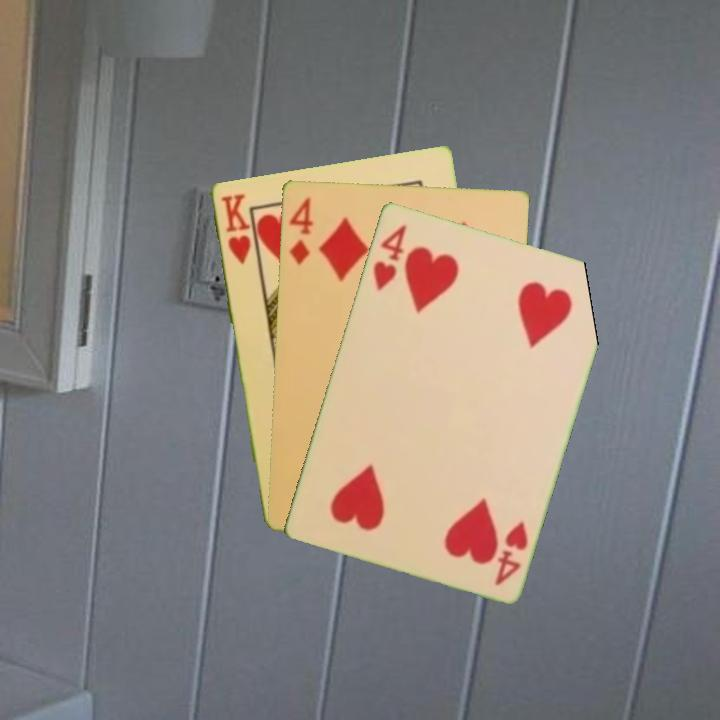4d: (285, 193, 316, 268)
4h: (369, 220, 409, 294), (491, 517, 531, 588)
Kh: (217, 189, 254, 267)
